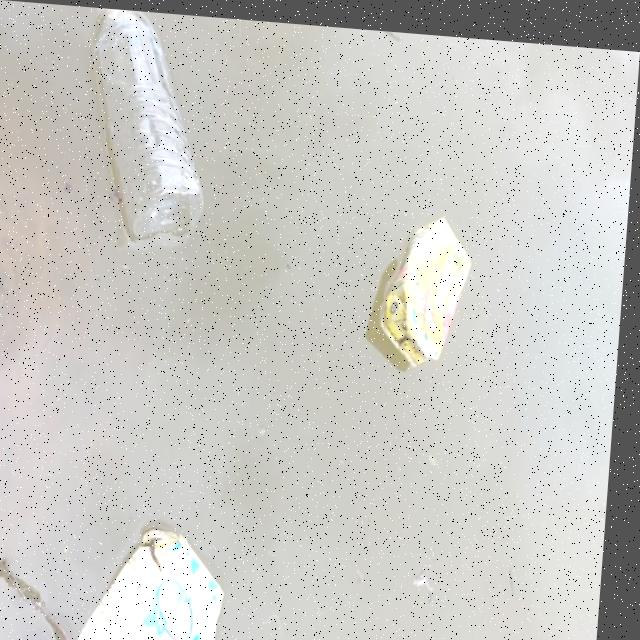paper: (358, 203, 522, 398), (70, 508, 279, 640)
waterbottle: (61, 5, 255, 268)
